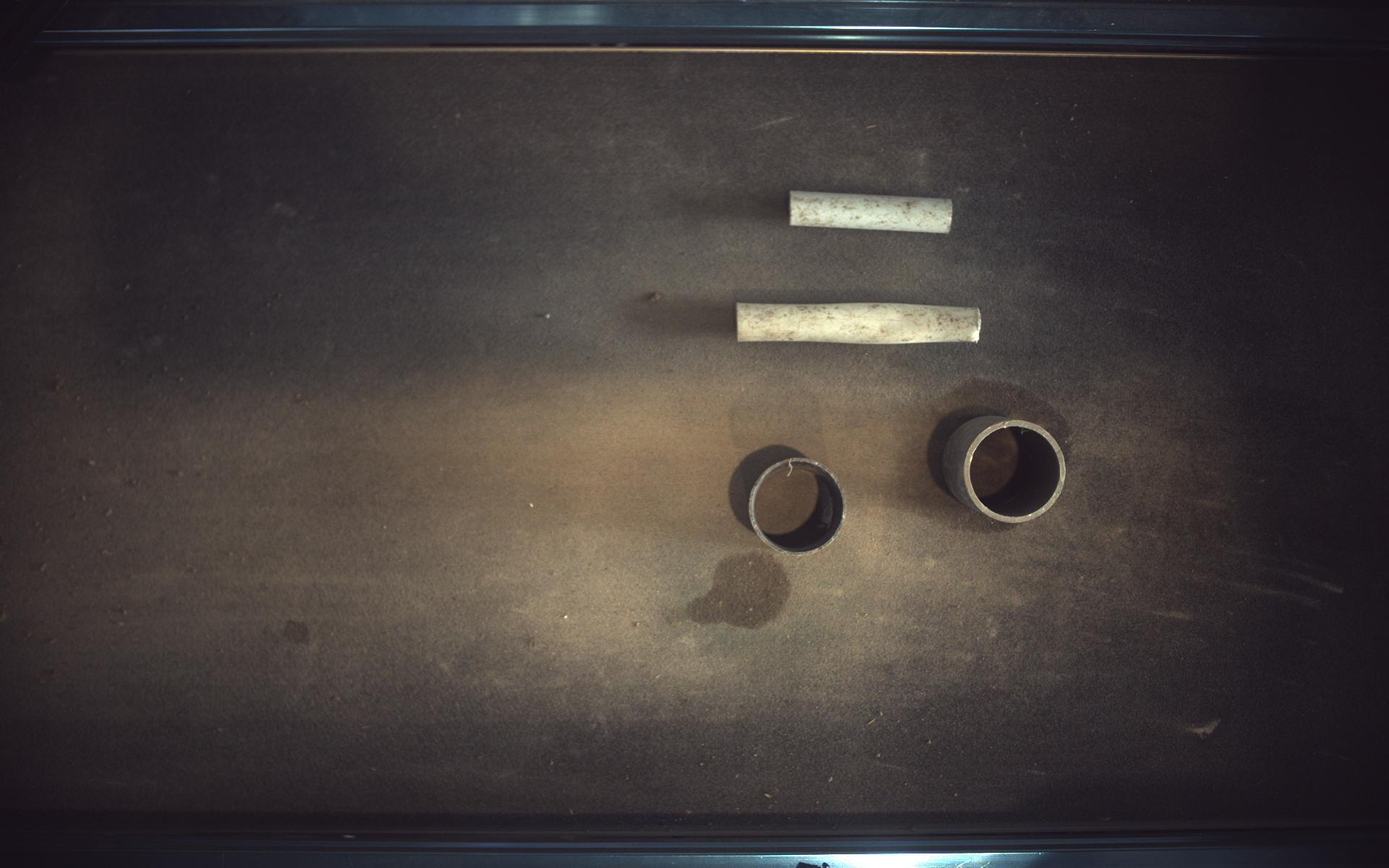pipes: (945, 415, 1068, 524), (730, 446, 845, 555), (737, 302, 983, 344), (791, 192, 954, 232)
